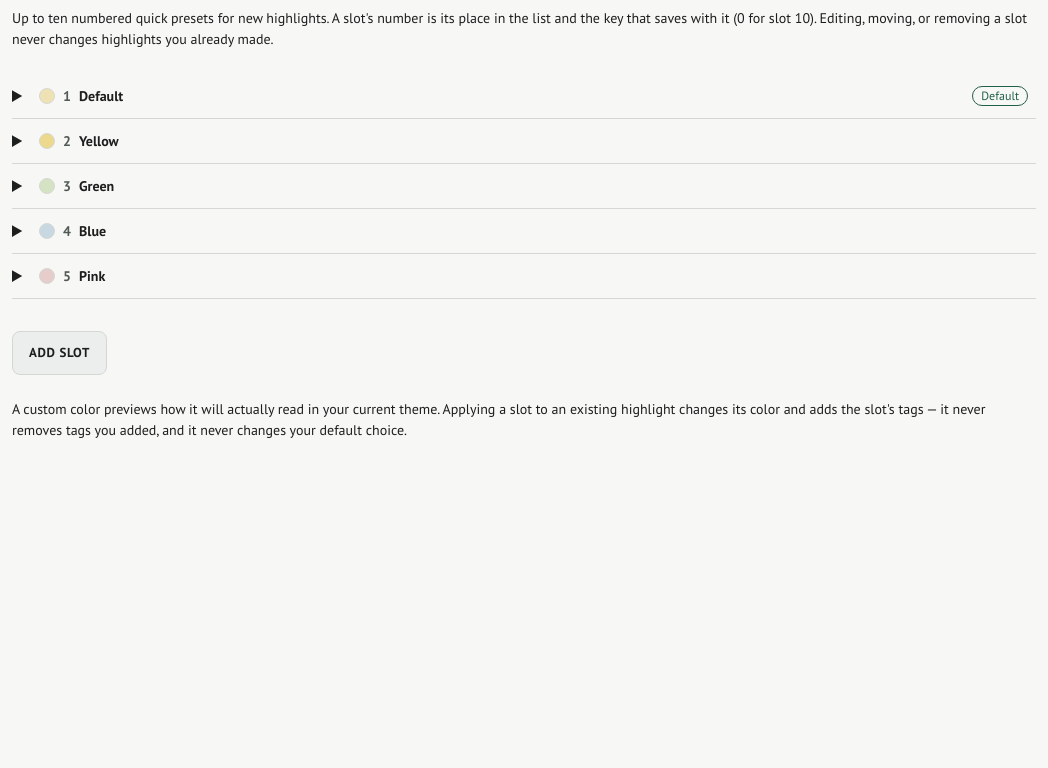
it: HighlightSlotSettings — the settings accordion (issue #222) › expanding a row reveals its editor; expanding another collapses the first (ONE at a time)
Click the button "2 Yellow". click: (99, 141)
box: [12,119,1036,163]
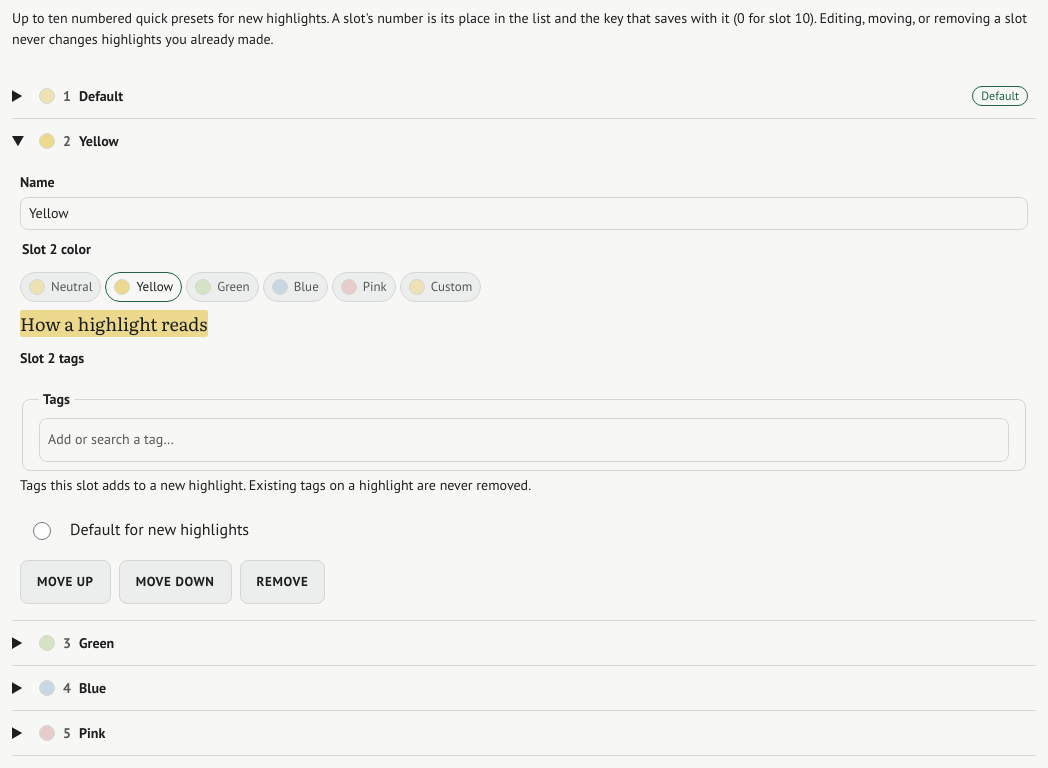
Result: the field named "Slot 2 name" is shown at [20,197,1028,230]
Result: the button "2 Yellow" is expanded at [12,119,1036,163]
Click the button "3 Green". click: (97, 642)
box: [12,621,1036,665]
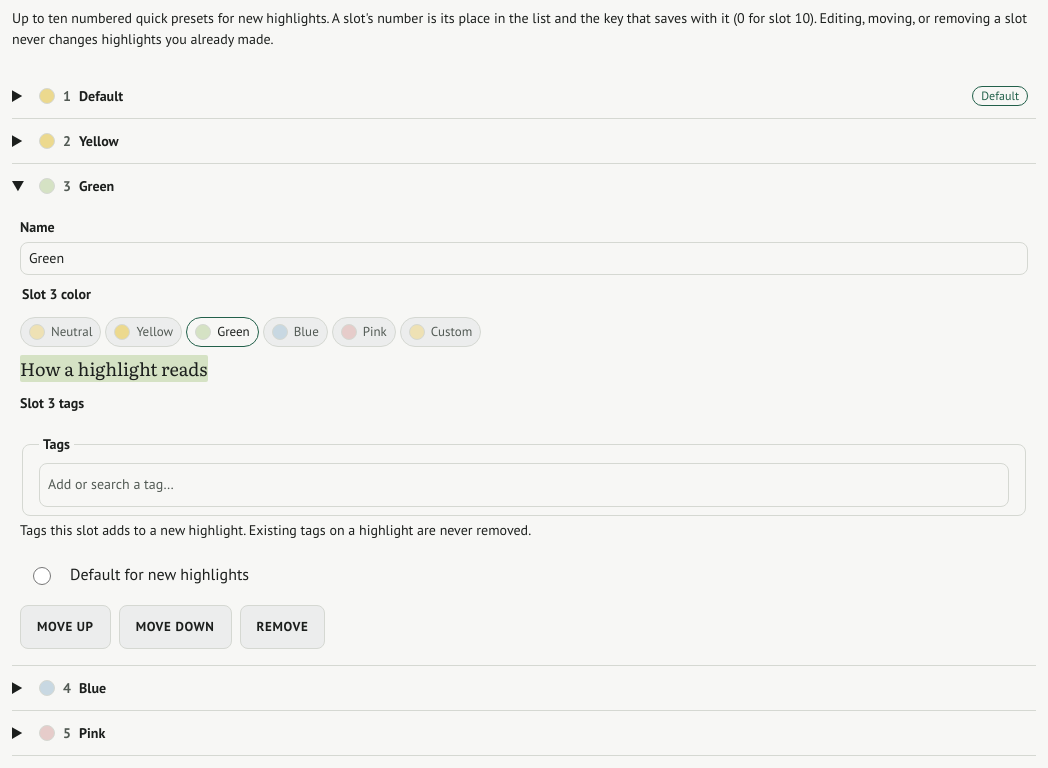
Result: the field named "Slot 3 name" is shown at [20,242,1028,275]
